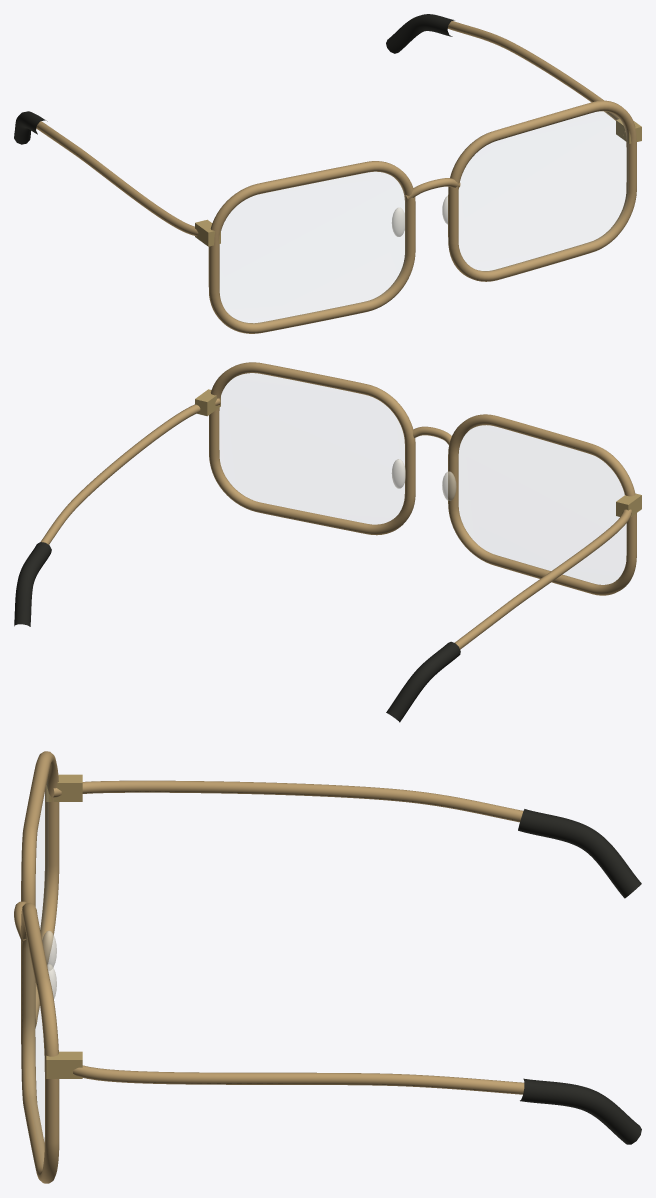
File: glasses-alt.glb
3 views of the same model, one above another, from view 1: azimuth 30°, elevation 25°; view 2: azimuth 150°, elevation 25°; view 3: azimuth 270°, elevation 25° (orthographic). The views are drawn at different scales.
Parts seen in each view (by area): view 1: rim-left, rim-right, temple-left, temple-right, ear-tip-right, ear-tip-left, bridge; view 2: rim-right, rim-left, temple-left, temple-right, ear-tip-left, ear-tip-right; view 3: rim-right, temple-right, temple-left, rim-left, ear-tip-left, ear-tip-right, hinge-right, hinge-left.
Part boxes in pixels (x1,y1,x2,y2): rim-left: (208,161,415,333); rim-right: (448,100,636,281); temple-left: (36,121,198,236); temple-right: (448,21,625,135); ear-tip-right: (386,14,454,53); ear-tip-left: (14,111,47,144); bridge: (405,178,460,199); rim-right: (209,362,415,535); rim-left: (448,414,636,595); temple-left: (454,509,631,649); temple-right: (40,398,220,544); ear-tip-left: (386,641,460,722); ear-tip-right: (14,542,51,626); rim-right: (21,902,59,1183); temple-right: (73,1065,524,1094); temple-left: (53,780,523,822); rim-left: (21,751,59,1028); ear-tip-left: (518,809,641,898); ear-tip-right: (520,1078,641,1144); hinge-right: (46,1051,82,1078); hinge-left: (46,774,82,801).
Size of the model in its own units: 2.5 by 0.7935 by 2.24.
